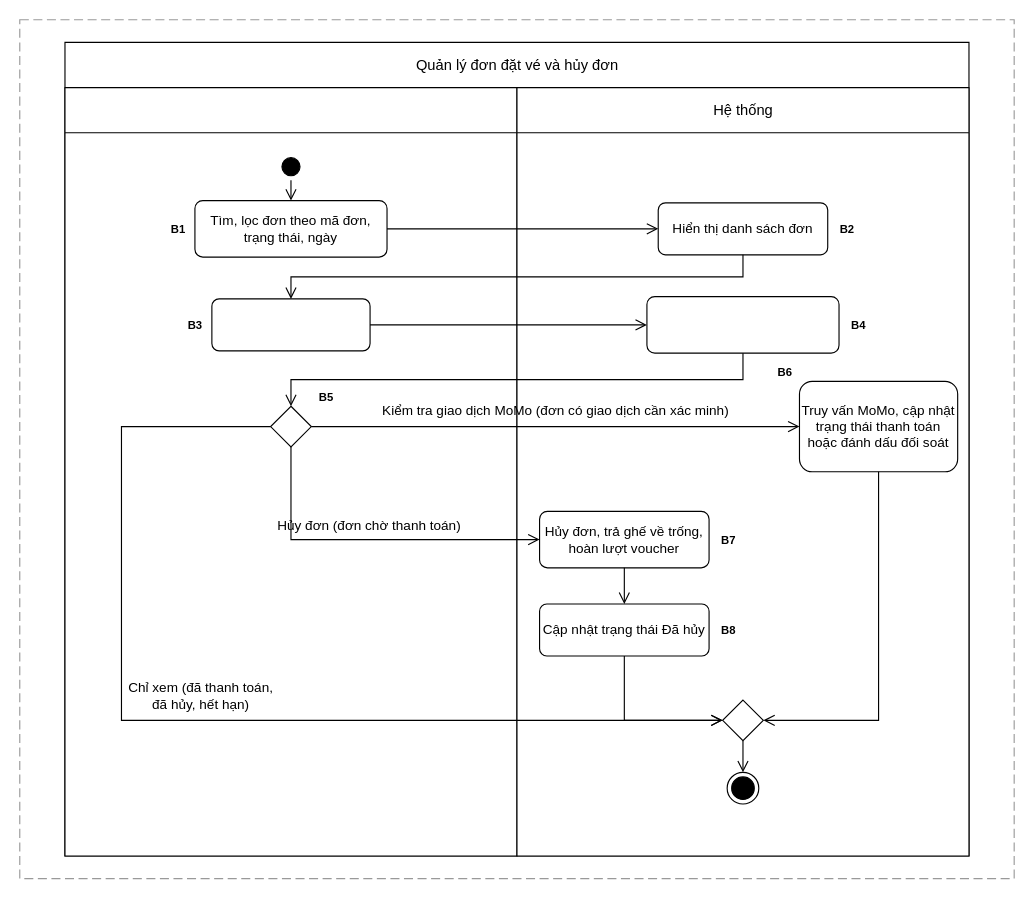
Some shapes in this 1034 by 898 pixel diagram are drawn without their labels. The box of each missing label's shape, as (x1, y1, x2, y2) in pixels:
Chọn đơn: (211, 298, 370, 351)
Hiển thị chi tiết đơn và thao tác theo trạng thái: (646, 295, 839, 353)
Quản trị viên: (64, 86, 517, 856)
